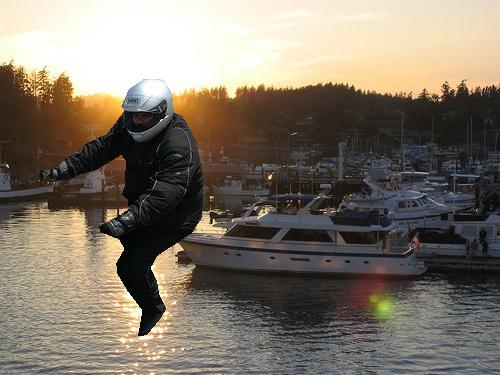tampered: (40, 80, 203, 336)
